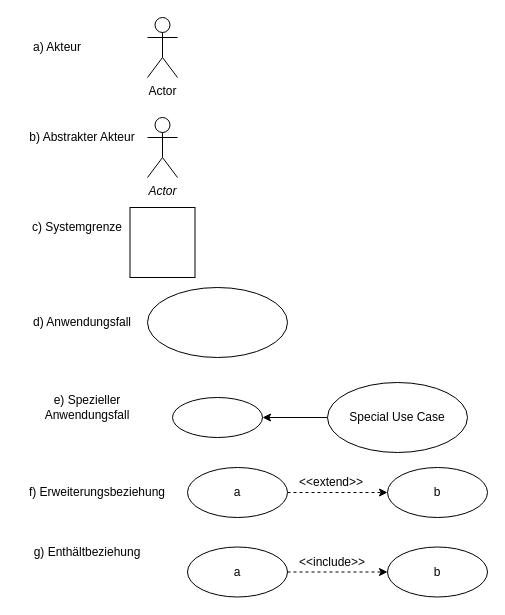
Image size: 505x615. Some labels were removed from this diagram. Each missing label, with the centre of its shape:
General Use Case: the point at 217,417
Use Case: the point at 217,322
